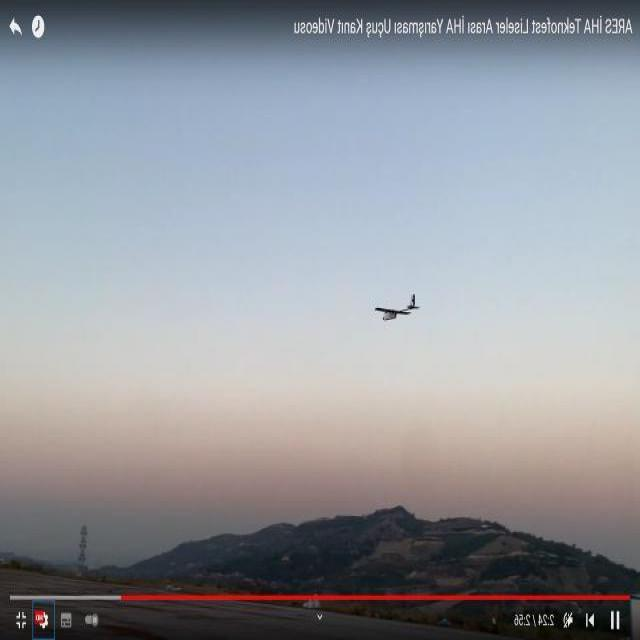iha: (373, 293, 420, 322)
